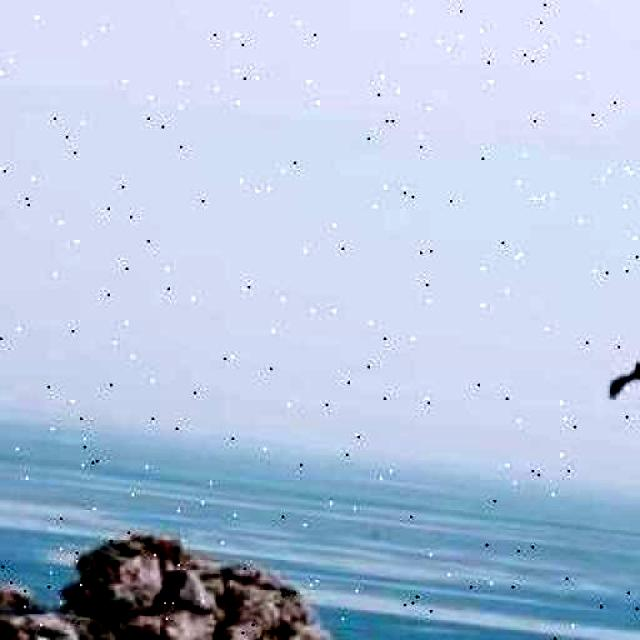airplane: (608, 350, 640, 404)
